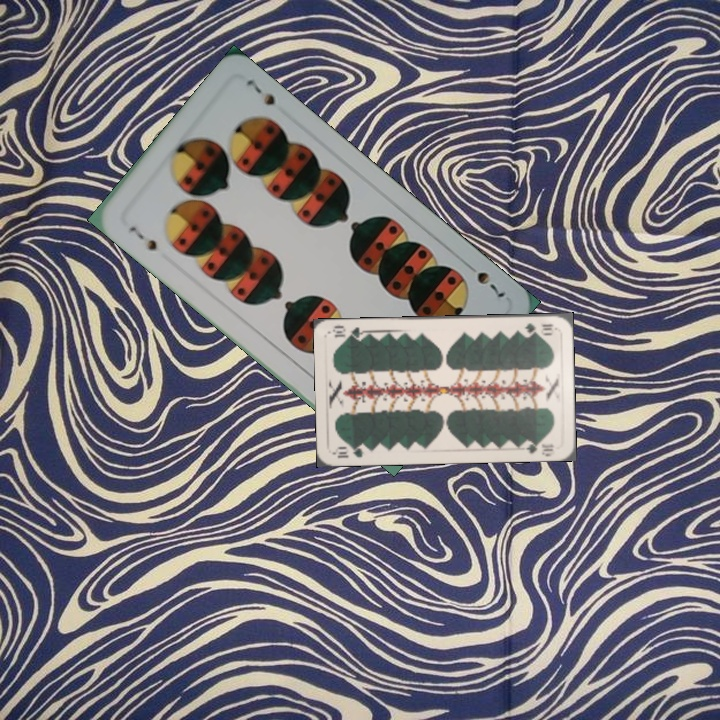G10: (331, 441, 371, 461), (520, 319, 556, 336)
S7: (461, 258, 509, 300), (125, 222, 160, 253)
